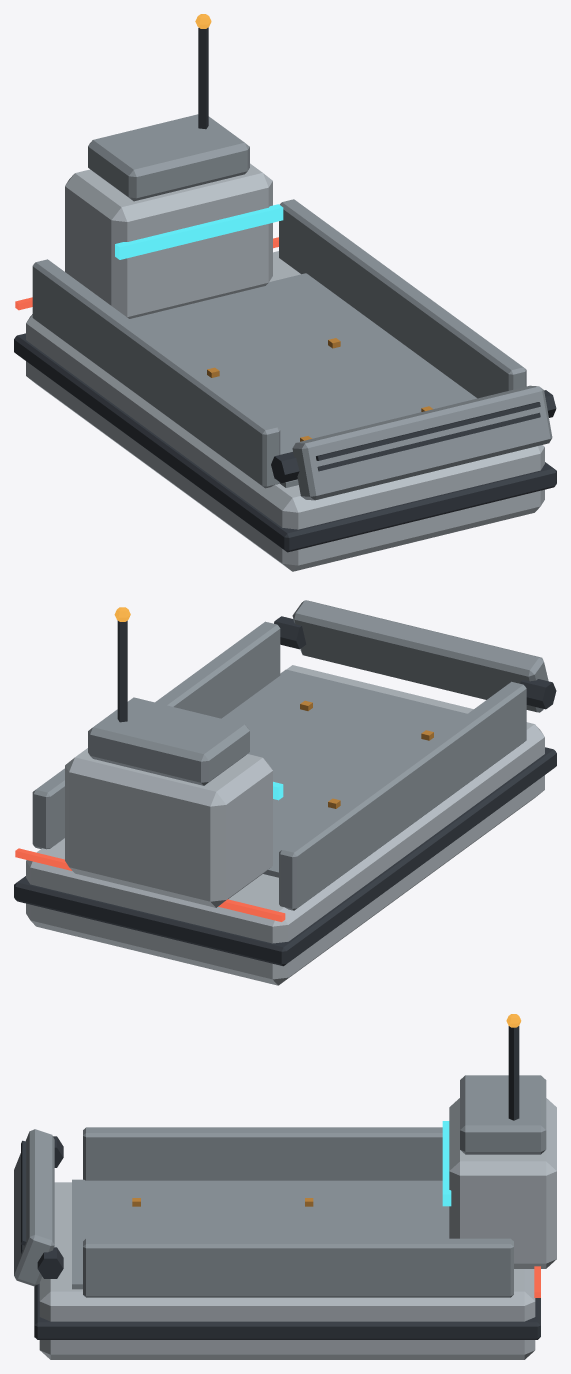
File: exo-barge.glb
The picture shows the model from 3 angles, top to bottom: view 1: azimuth 30°, elevation 25°; view 2: azimuth 150°, elevation 25°; view 3: azimuth 270°, elevation 25°; orthographic projection. The views are drawn at different scales.
Visible parts, largest first — view 1: body; view 2: body; view 3: body.
Part boxes in pixels (x1=…): body: x1=14, y1=14, x2=556, y2=571; body: x1=14, y1=600, x2=556, y2=985; body: x1=14, y1=1014, x2=556, y2=1359.
Size of the model in its own units: 2.7 by 3.17 by 5.04.
